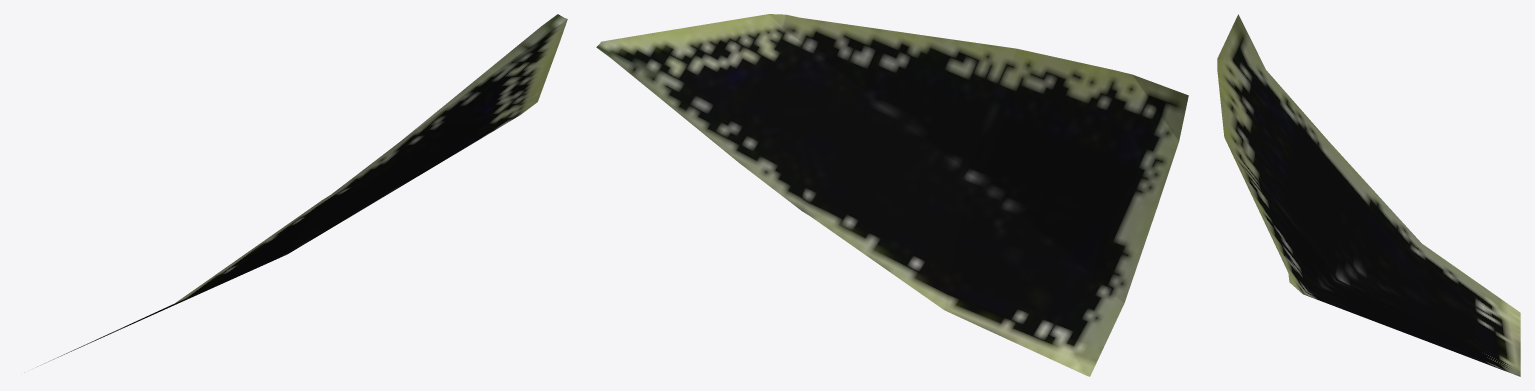
3 renders of one model, left to right at view 1: azimuth 30°, elevation 25°; view 2: azimuth 150°, elevation 25°; view 3: azimuth 270°, elevation 25°, orthographic. The views are drawn at different scales.
Size of the model in its own units: 15.75 by 6.35 by 5.84.
1 material, 1 textured.
